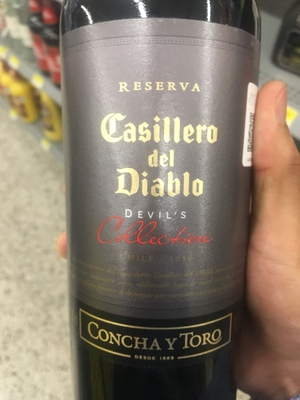casillero del diablo devils collection rojo: (58, 3, 265, 400)
